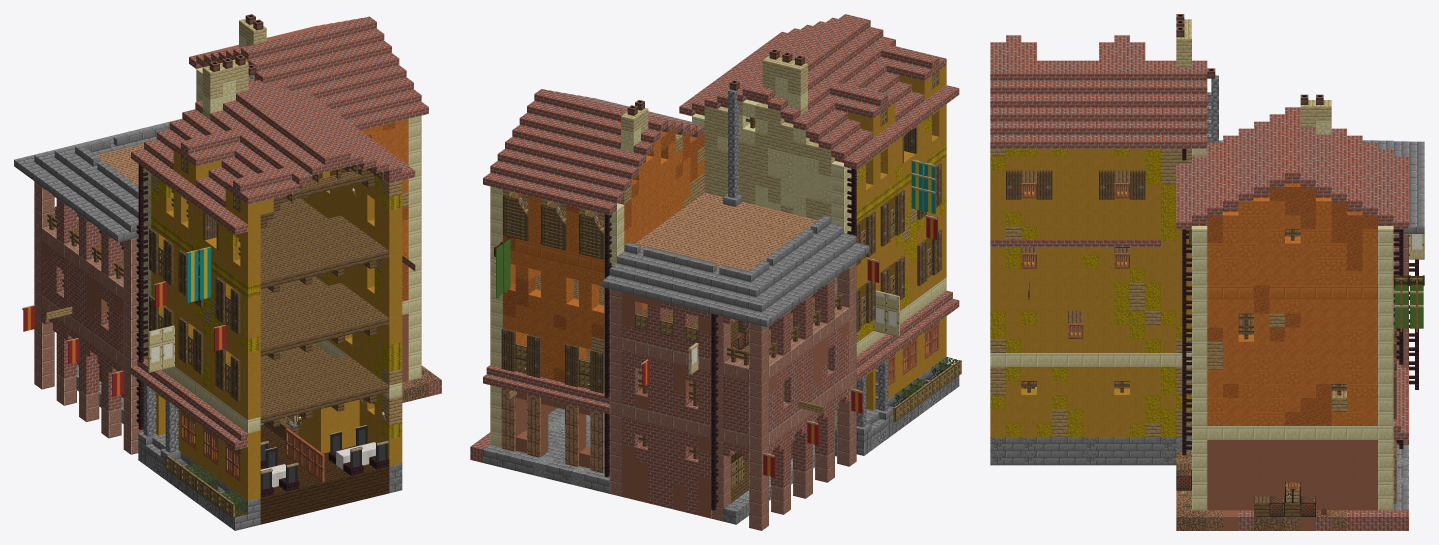
Rendered from nha-04.fbx.
3 renders of one model, left to right at view 1: azimuth 30°, elevation 25°; view 2: azimuth 150°, elevation 25°; view 3: azimuth 270°, elevation 25°, orthographic. The views are drawn at different scales.
Visible parts, largest first — view 1: nha-04; view 2: nha-04; view 3: nha-04.
Boxes of the visible parts, x1,y1,x2,y2 form: nha-04: (14,14,441,530); nha-04: (470,14,961,530); nha-04: (990,14,1424,530).
Bounding box in the file's own units: 2500 × 2850 × 2800.
1 material, 1 textured.
